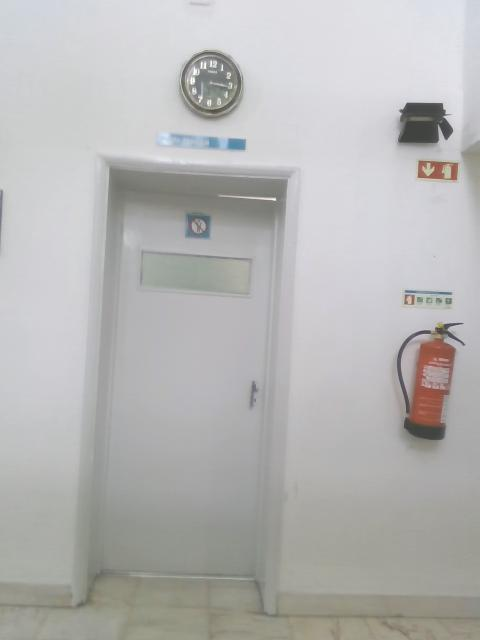closed_door: (89, 164, 286, 587)
